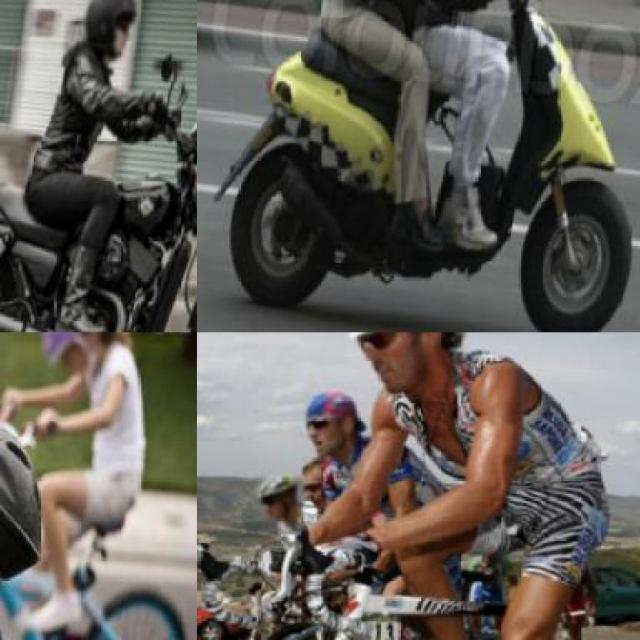With Helmet: (0, 406, 63, 625), (325, 332, 480, 405), (285, 386, 377, 472), (72, 0, 148, 74), (29, 332, 126, 386), (250, 471, 307, 532)
